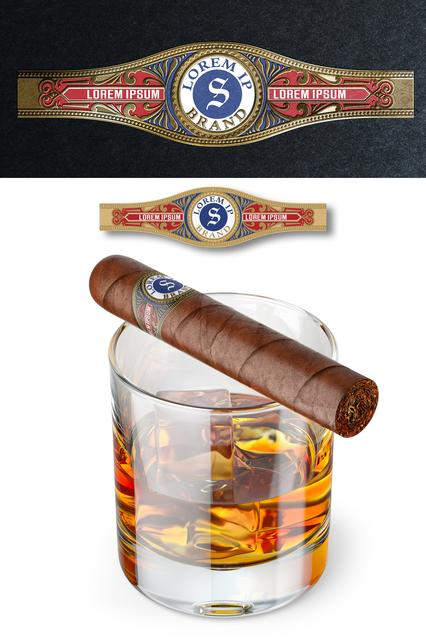Cigar: (88, 253, 379, 439)
